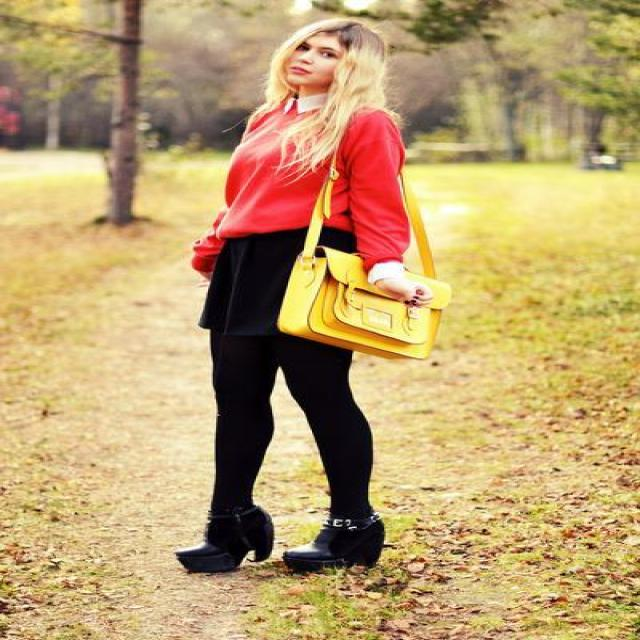bag: (277, 166, 451, 360)
pants: (198, 224, 373, 524)
shirt: (192, 93, 408, 284)
shoe: (174, 506, 396, 575)
